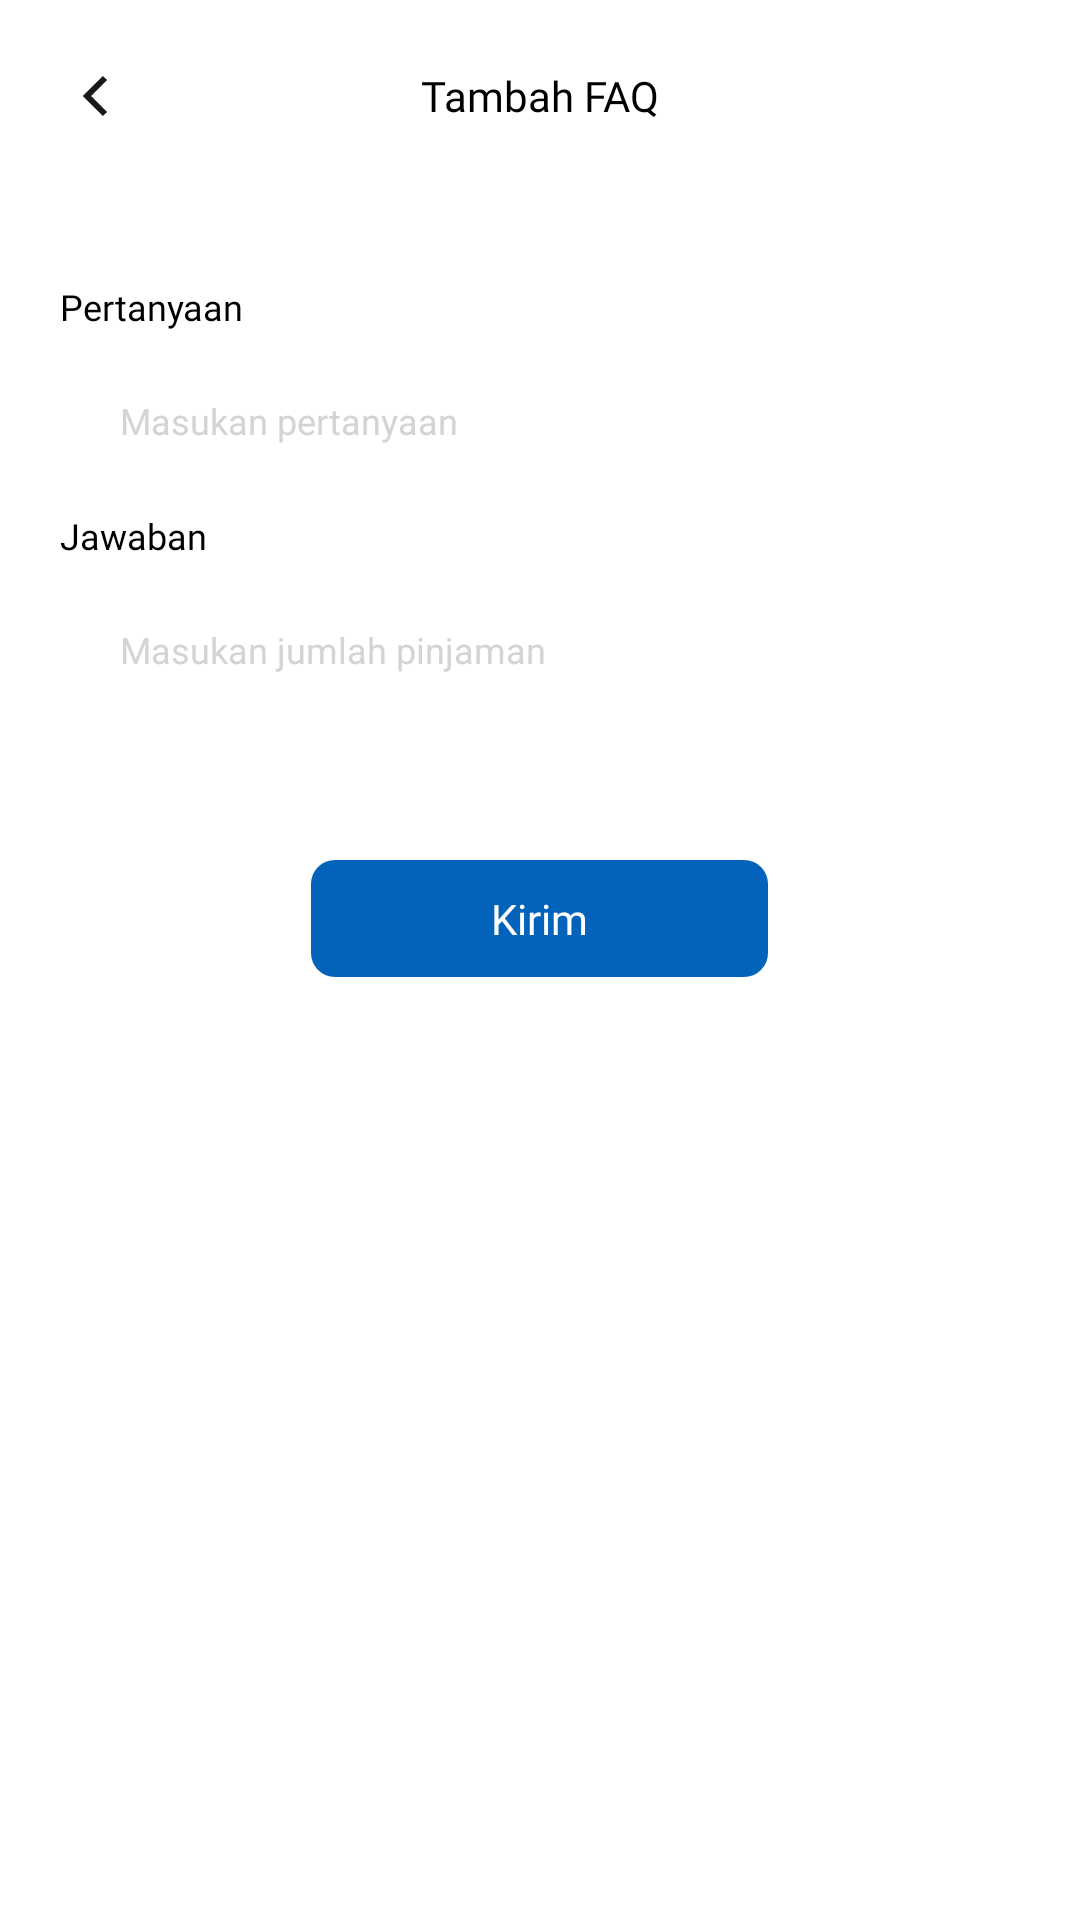

Locate icon controls on the screen. Image size 1080 x 1920, boxes as (x1, y1, x2, y2).
back: (83, 76, 107, 116)
